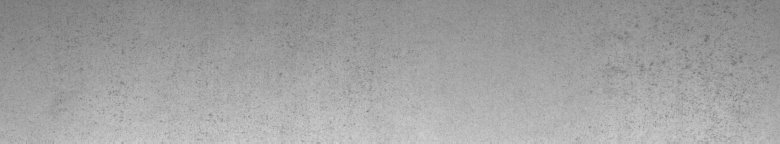ib: (605, 4, 747, 108)
